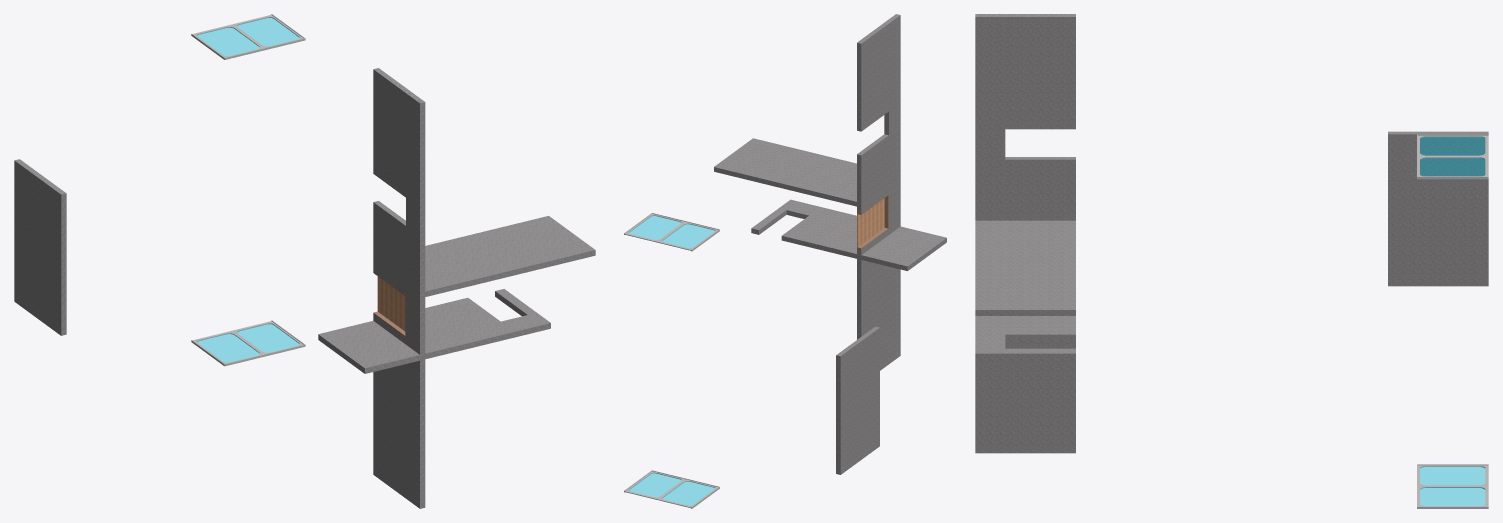
The picture shows the model from 3 angles, left to right: view 1: azimuth 30°, elevation 25°; view 2: azimuth 150°, elevation 25°; view 3: azimuth 270°, elevation 25°; orthographic projection. The views are drawn at different scales.
Parts seen in each view (by area): view 1: 0_0_2_2_1_2; view 2: 0_0_2_2_1_2; view 3: 0_0_2_2_1_2.
Boxes of the visible parts, <box> form: 0_0_2_2_1_2: <box>14,14,595,508</box>; 0_0_2_2_1_2: <box>624,14,946,508</box>; 0_0_2_2_1_2: <box>975,14,1488,508</box>.
Size of the model in its own units: 12.69 by 14.71 by 15.3.
10 materials, 5 textured.
